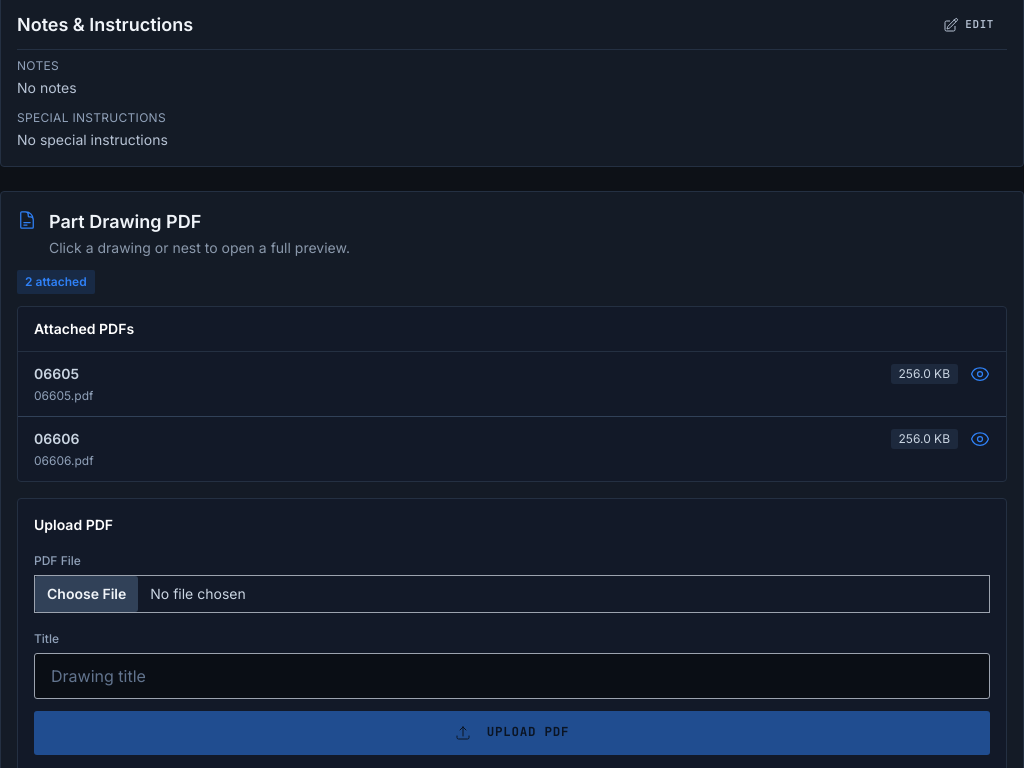
it: reports download failures in the popup and lets the user retry
(page scrolled)
Click the button with aria-label "Preview 06605" at (56, 373), box left=18, top=352, right=1006, bottom=416
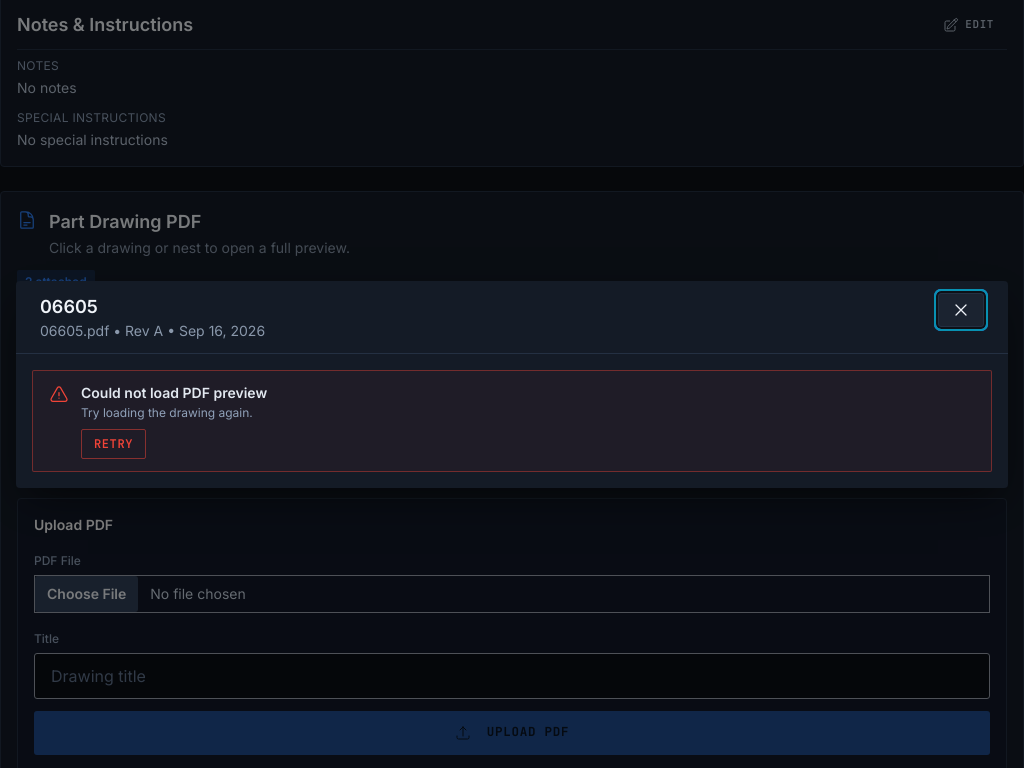
Result: the message shows "Could not load PDF preview" at left=81, top=384, right=267, bottom=400
Click the button "Retry" at (114, 444), box left=81, top=428, right=146, bottom=458
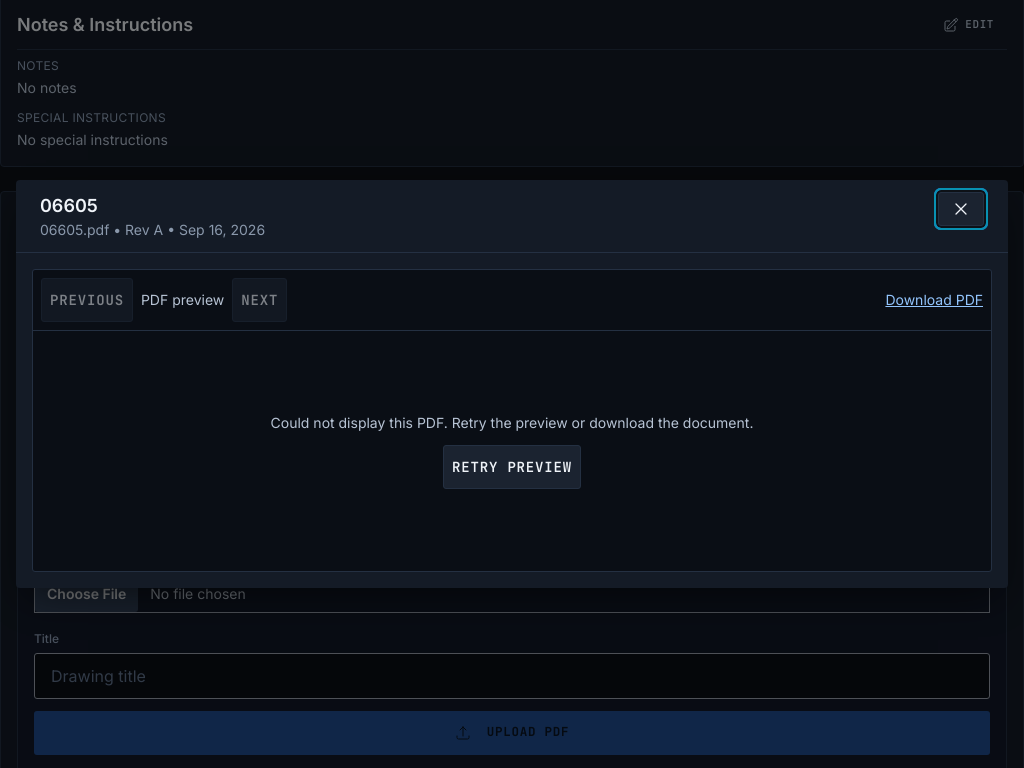
Result: the link "Download PDF" is shown at left=885, top=290, right=983, bottom=310
